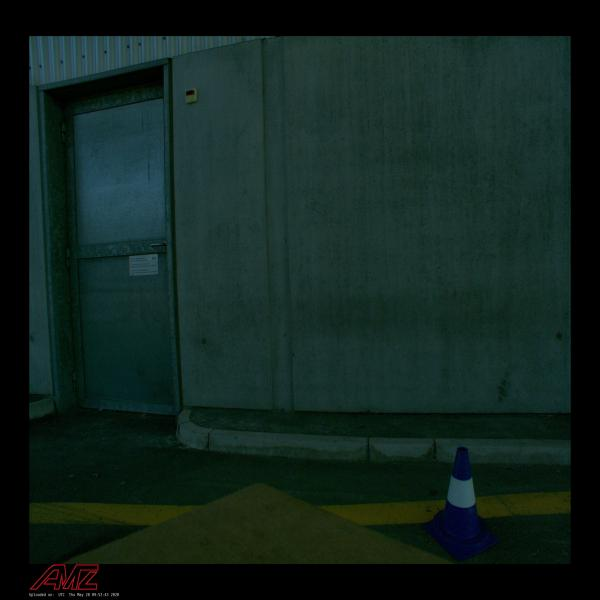blue_cone: (424, 446, 501, 562)
